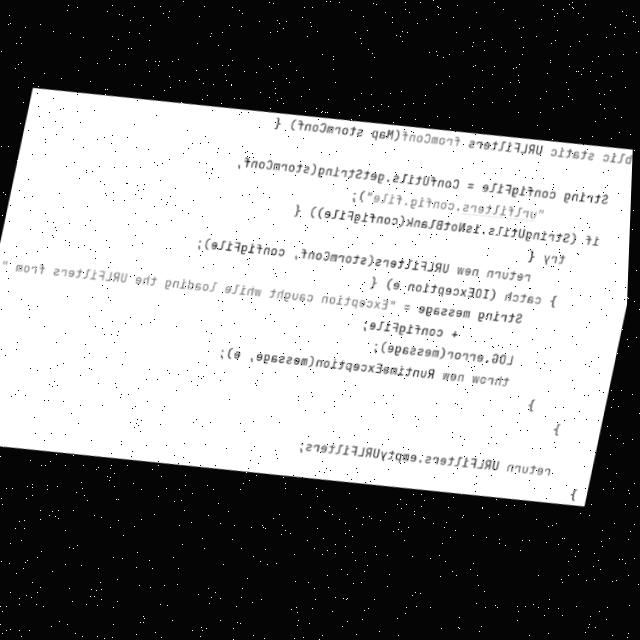code_screen: (0, 88, 633, 504)
